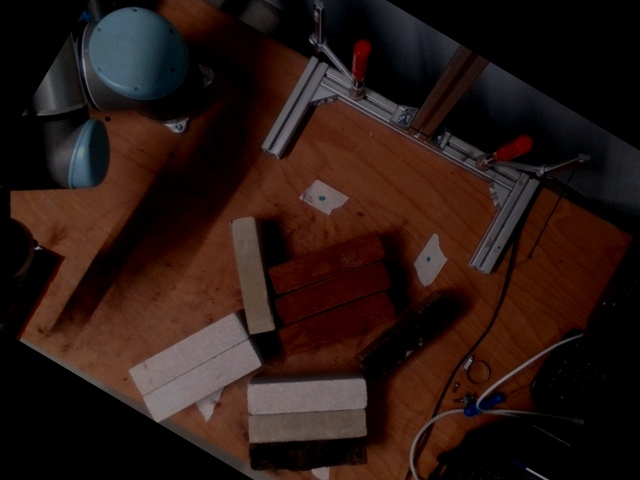brick-side: (148, 342, 259, 421), (134, 316, 244, 392), (364, 300, 453, 380), (280, 293, 393, 354), (276, 264, 389, 322), (271, 235, 384, 292), (234, 223, 270, 331), (250, 382, 362, 414), (252, 413, 364, 442), (252, 442, 362, 469)
